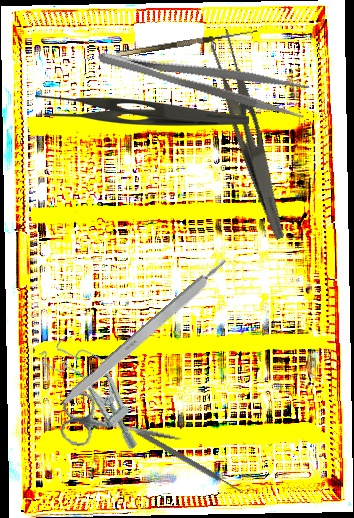Dressing Forceps: (197, 27, 308, 241), (95, 29, 313, 123), (35, 91, 249, 126)
Hook Surgical: (114, 21, 259, 58)
Iris Scissors: (56, 388, 187, 465)
Pusher: (135, 428, 245, 496)
Scalpel Handle: (56, 257, 233, 412)
Speculum: (35, 325, 160, 457)
